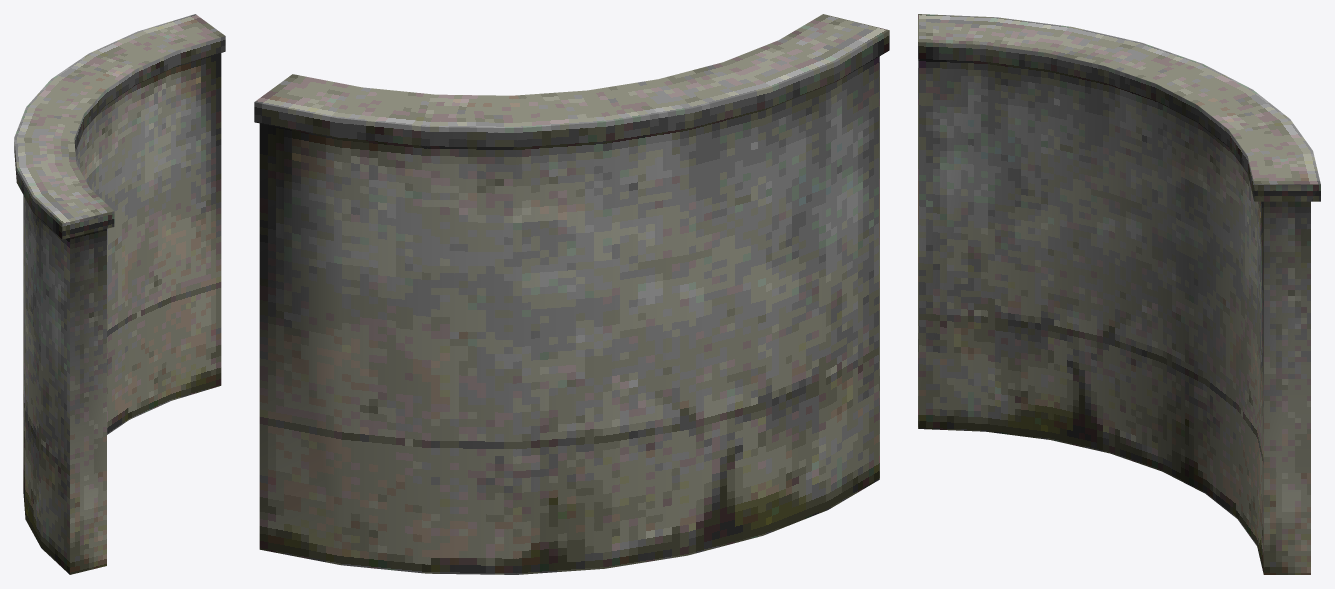
File: wall_corner_3.glb
The picture shows the model from 3 angles, left to right: view 1: azimuth 30°, elevation 25°; view 2: azimuth 150°, elevation 25°; view 3: azimuth 270°, elevation 25°; orthographic projection. The views are drawn at different scales.
Parts seen in each view (by area): view 1: Wall_corner_3; view 2: Wall_corner_3; view 3: Wall_corner_3.
Part boxes in pixels (x1,y1,x2,y2): Wall_corner_3: [14, 14, 225, 574]; Wall_corner_3: [254, 14, 889, 574]; Wall_corner_3: [918, 14, 1320, 574].
Bounding box in the file's own units: 2.8 × 2.99 × 2.8.
1 material, 1 textured.
